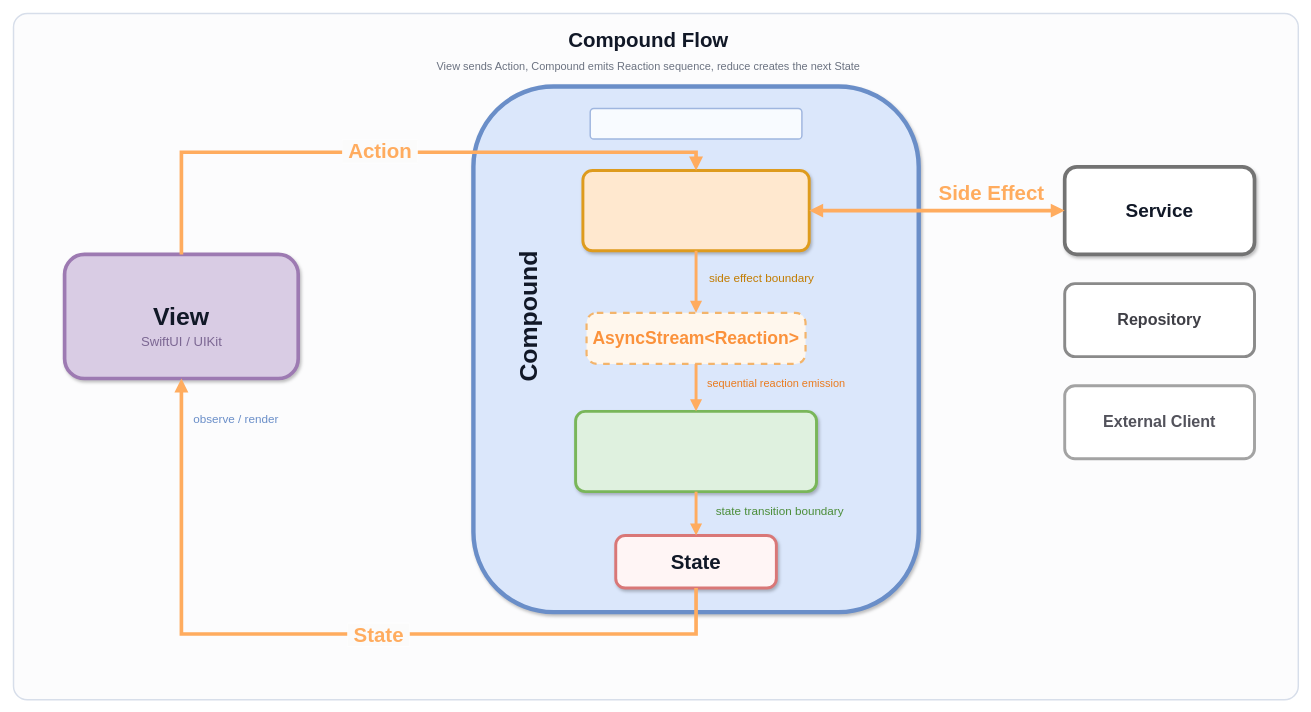
Some shapes in this 1311 by 712 pixel diagram are drawn without their labels. The shapes that lost their labels are listed below. From the top down, each one's centre as x and y in pixels, then its label:
[695,123]: Action queue + MainActor-owned state
[696,211]: react(action)
[696,452]: reduce(state, reaction)
